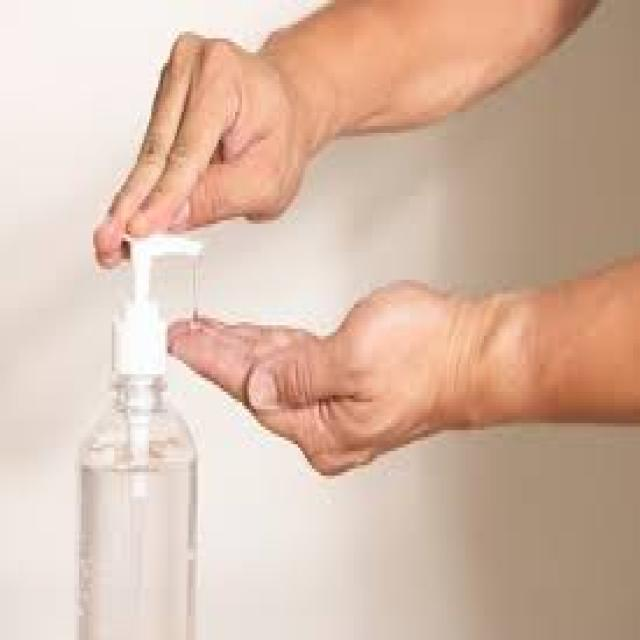liquid soap: (77, 218, 221, 640)
